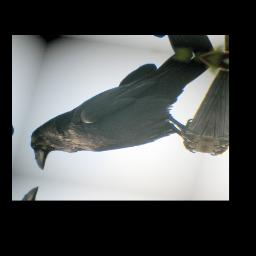Crow: (21, 36, 222, 192)
